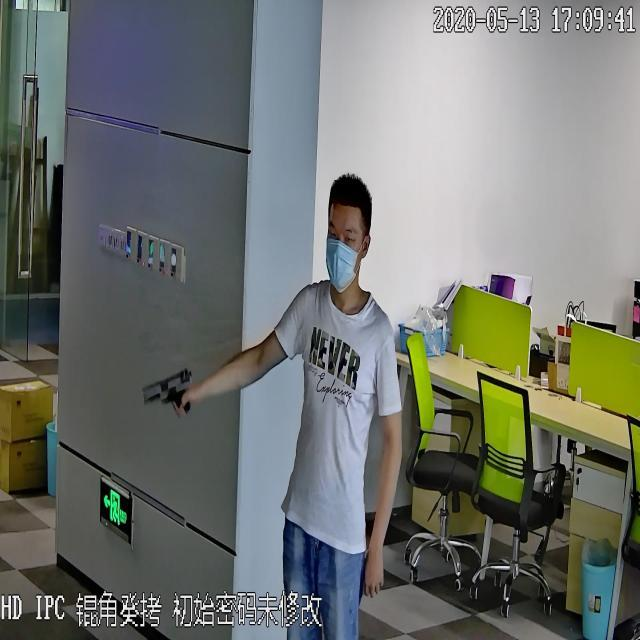gun: (135, 362, 195, 424)
